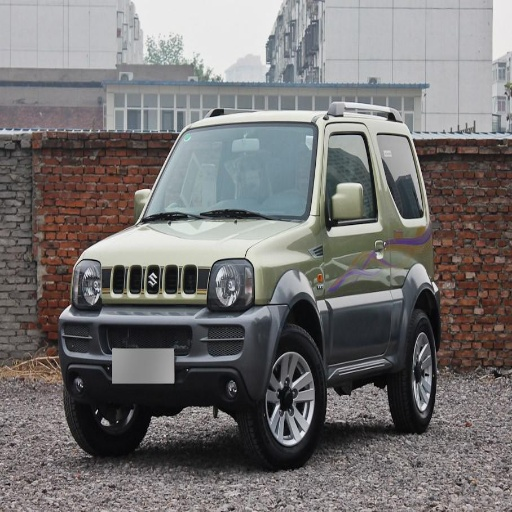front_bumper: (58, 254, 284, 401)
front_glass: (142, 126, 315, 222)
front_left_door: (323, 126, 390, 366)
